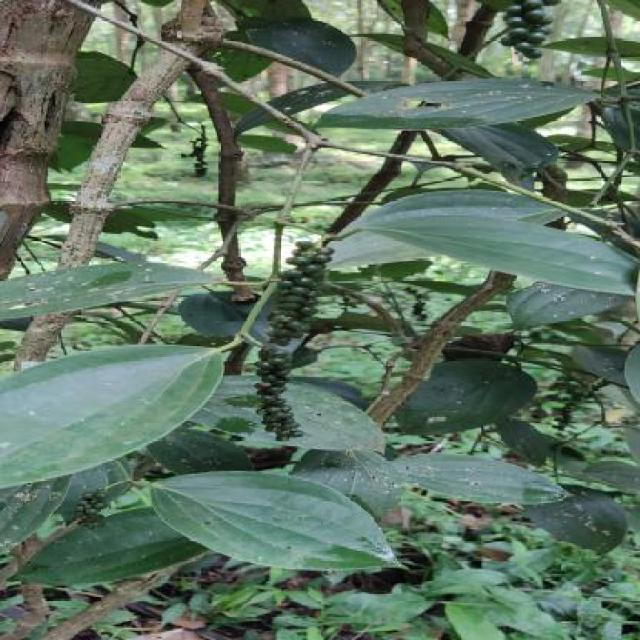UNRIPE: (253, 242, 333, 440), (500, 0, 551, 58), (554, 380, 601, 428), (74, 492, 111, 528)
